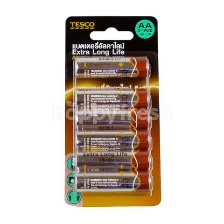battery: (71, 107, 155, 131), (71, 55, 151, 80), (71, 172, 154, 196), (71, 151, 153, 175), (71, 87, 153, 109), (73, 131, 155, 152)
